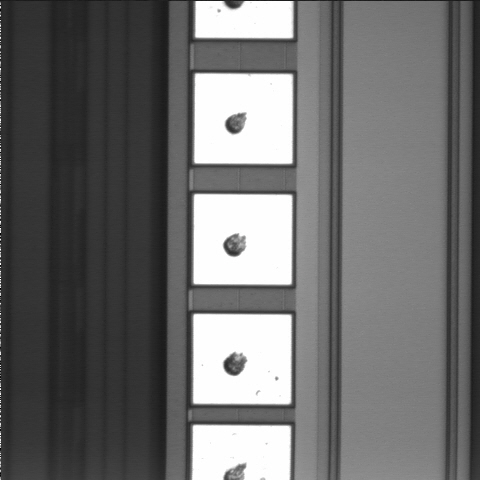pad: (194, 194, 292, 285), (194, 74, 293, 164), (193, 314, 291, 404)
